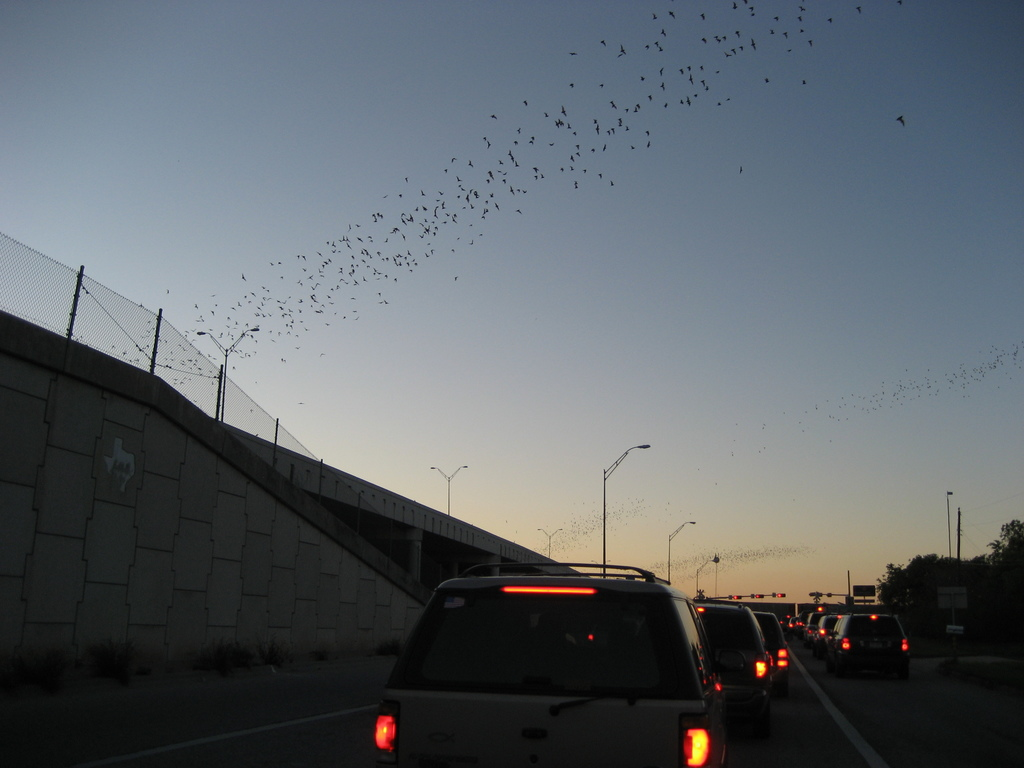Car: (371, 563, 727, 766), (691, 597, 764, 718), (782, 600, 915, 663), (752, 613, 790, 682)
